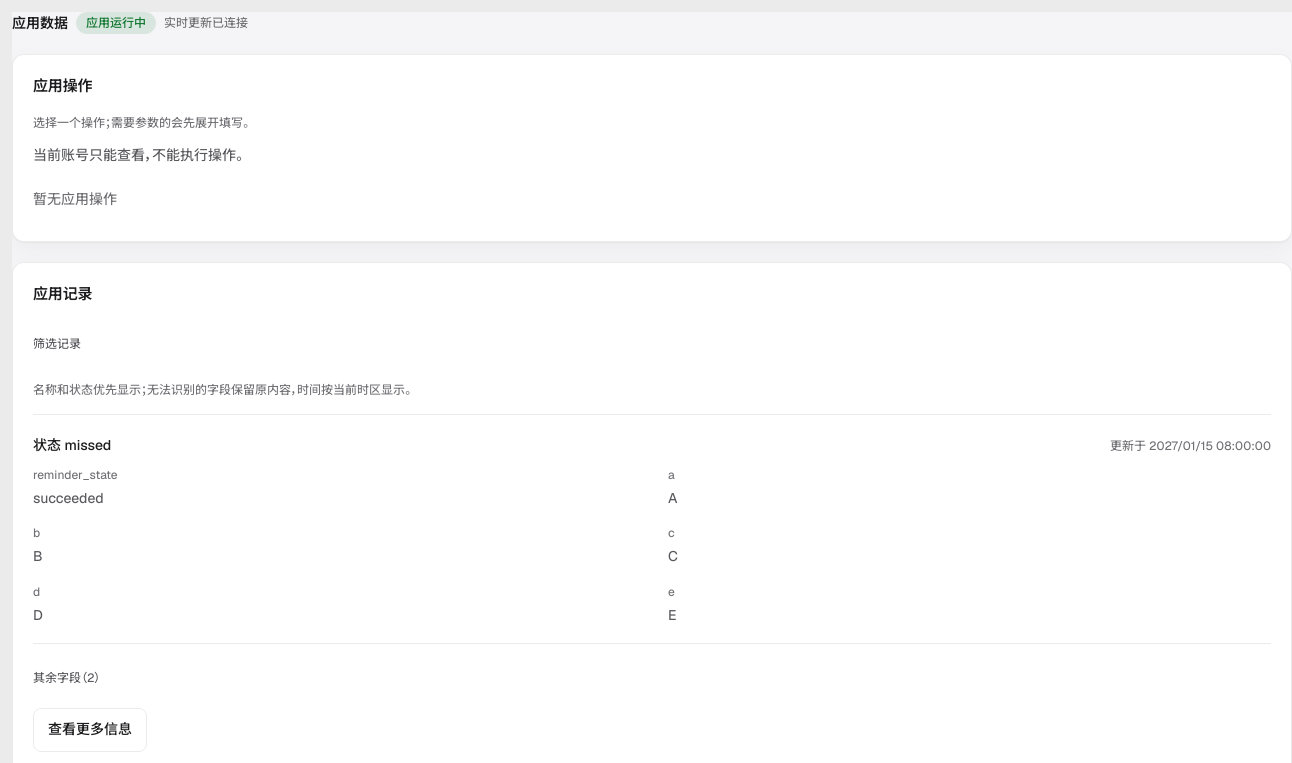
应用数据读取和通用展示 › 状态与有用值优先，空字段按需展开而不是占据首屏
Check: the heading "状态 missed" is shown, box [33, 434, 111, 454]
Check: the text "succeeded" is shown, box [33, 488, 104, 506]
Click the heading "其余字段（2）": [67, 678] box [33, 670, 100, 686]
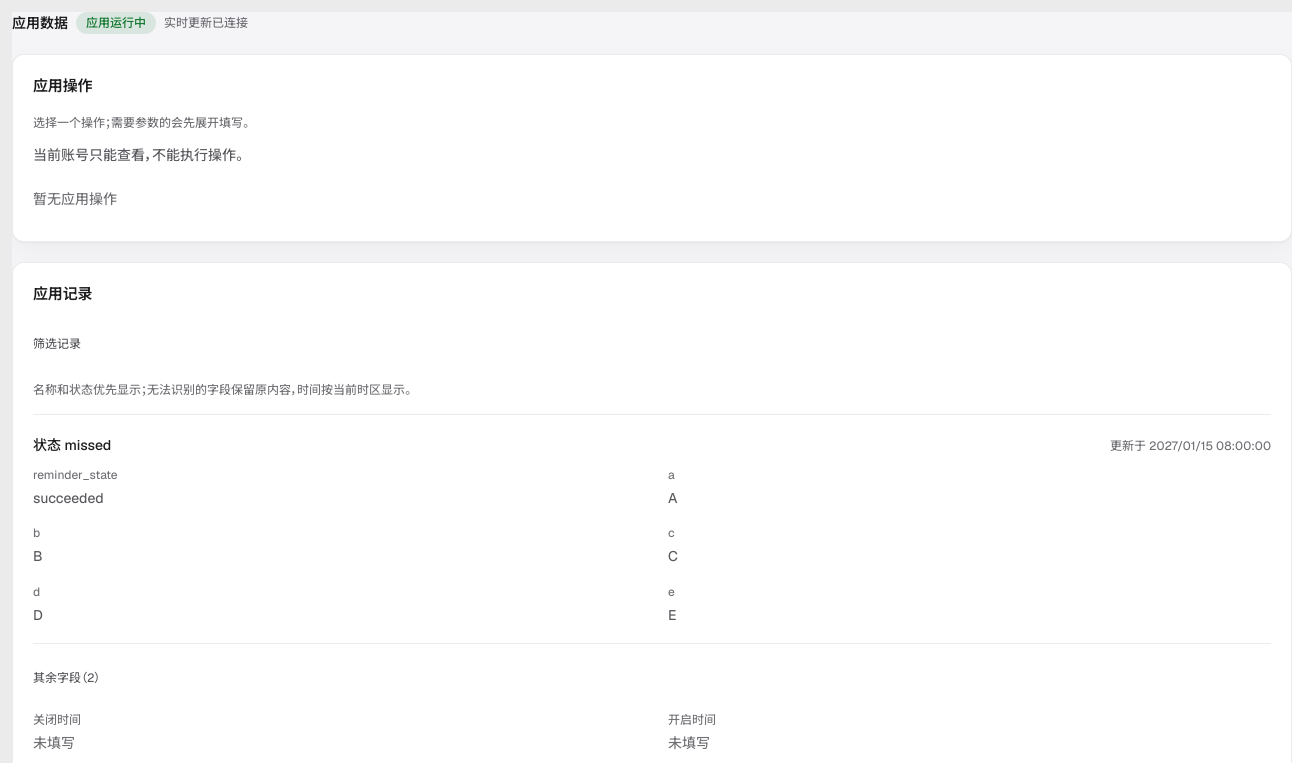
Check: the text "E" is shown, box [668, 606, 676, 624]
Check: the text "关闭时间" is shown, box [33, 712, 81, 728]
